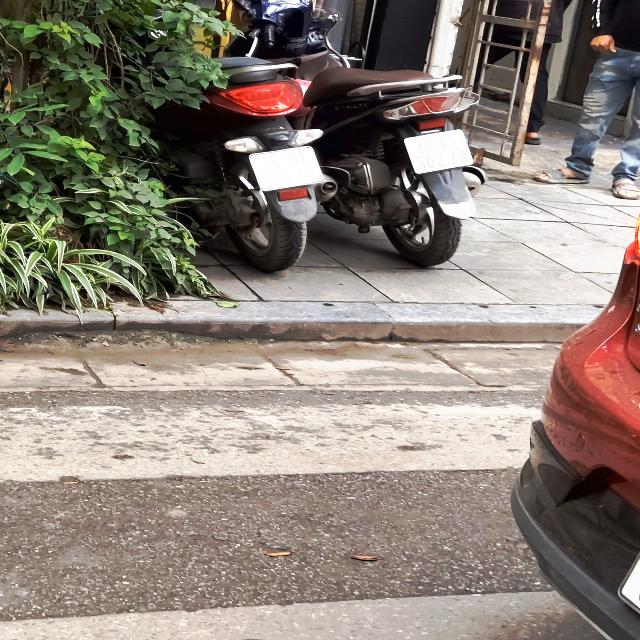license_plate: (251, 147, 329, 194), (404, 128, 477, 175)
